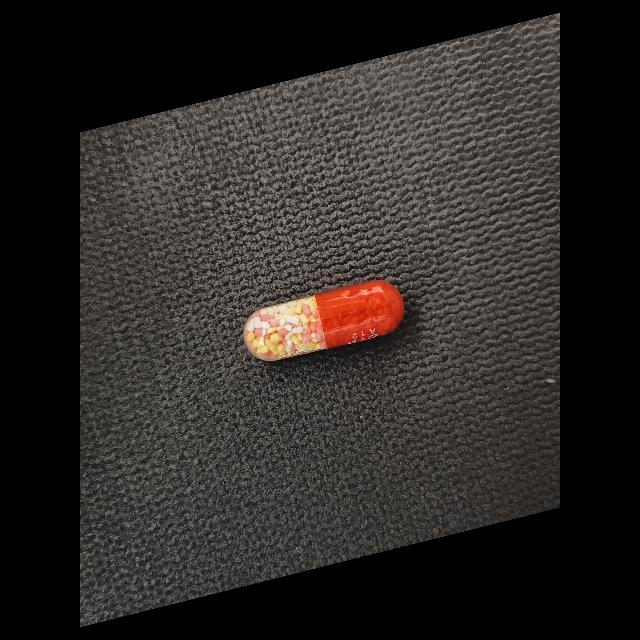Intact Capsule: (243, 280, 404, 361)
